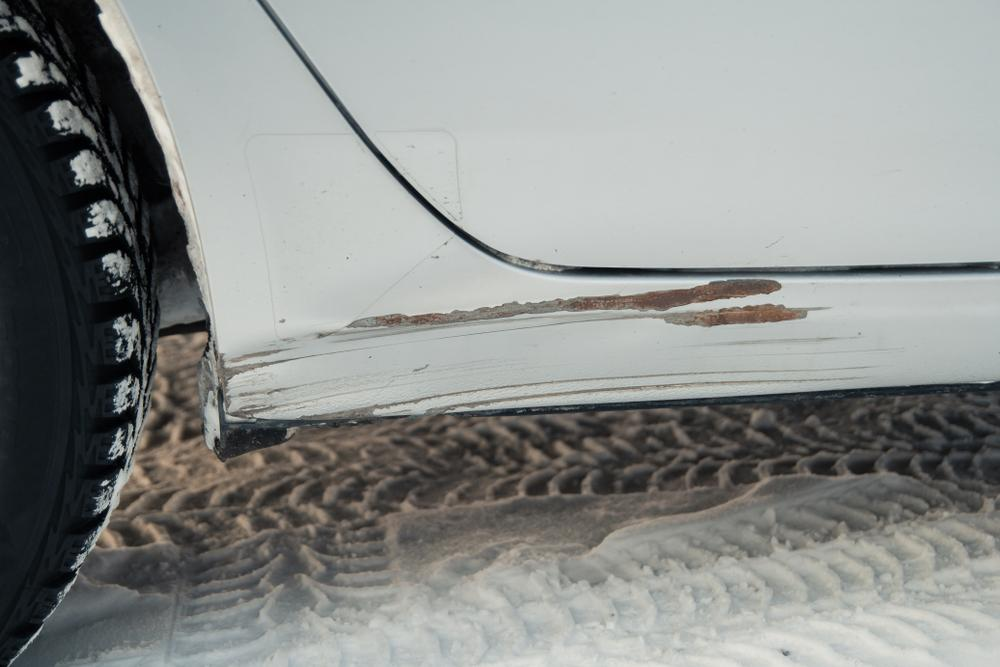scratch: (216, 277, 904, 428)
